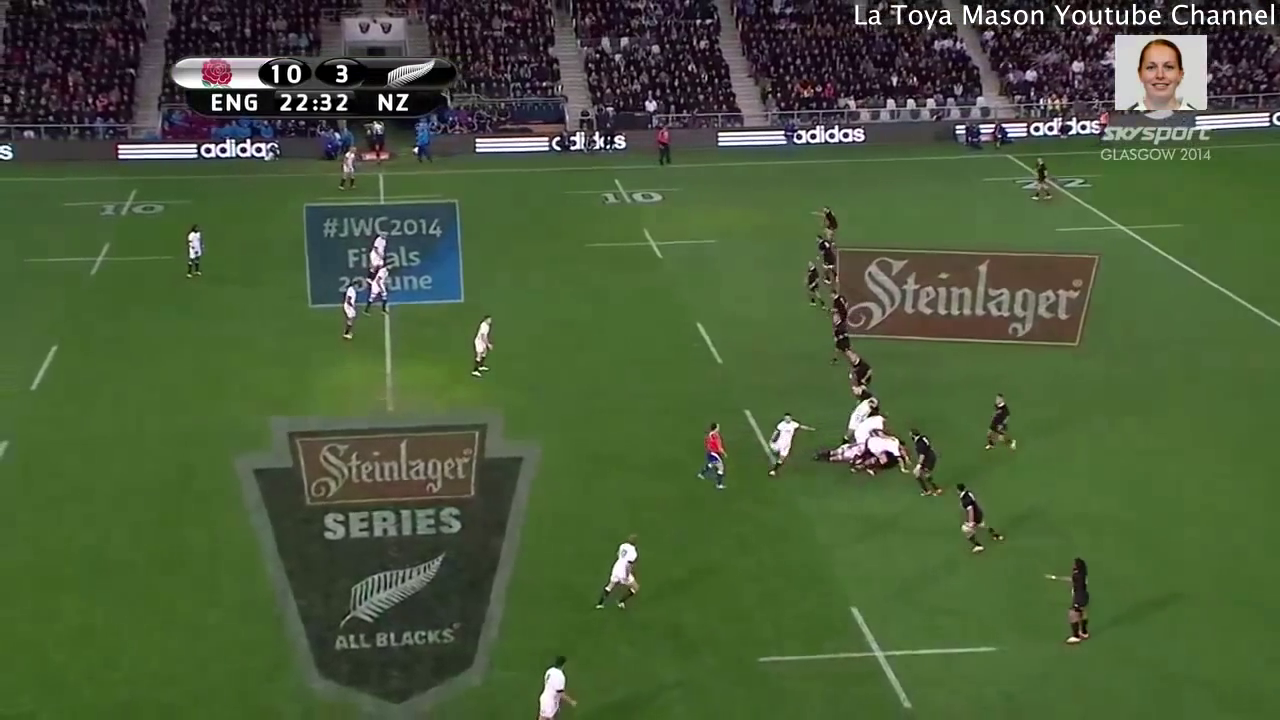10_metre: (744, 598, 1008, 713), (20, 238, 188, 276), (578, 222, 721, 266), (562, 173, 689, 216), (58, 183, 196, 221)
ball: (764, 439, 782, 454)
player: (1043, 542, 1103, 666), (582, 524, 655, 621), (950, 484, 1015, 559), (967, 380, 1024, 460), (759, 404, 816, 482), (521, 649, 582, 720), (685, 411, 734, 494), (463, 309, 505, 384), (908, 426, 944, 500), (177, 220, 215, 286), (834, 392, 879, 444), (795, 253, 830, 318), (358, 260, 395, 320), (840, 341, 877, 401), (852, 406, 901, 451), (1019, 151, 1054, 209), (818, 308, 853, 365), (809, 230, 842, 289), (361, 226, 394, 278), (335, 281, 362, 344), (859, 431, 912, 460), (338, 142, 364, 196), (822, 281, 853, 321), (812, 204, 843, 239)
